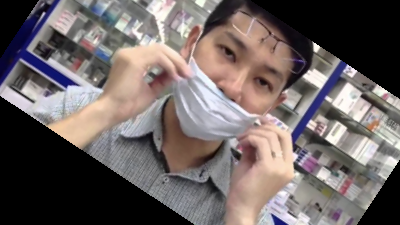mask_weared_incorrect: (150, 1, 317, 150)
